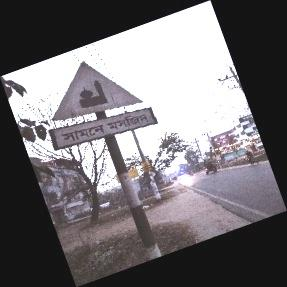Mosque in front: (48, 61, 154, 151)
